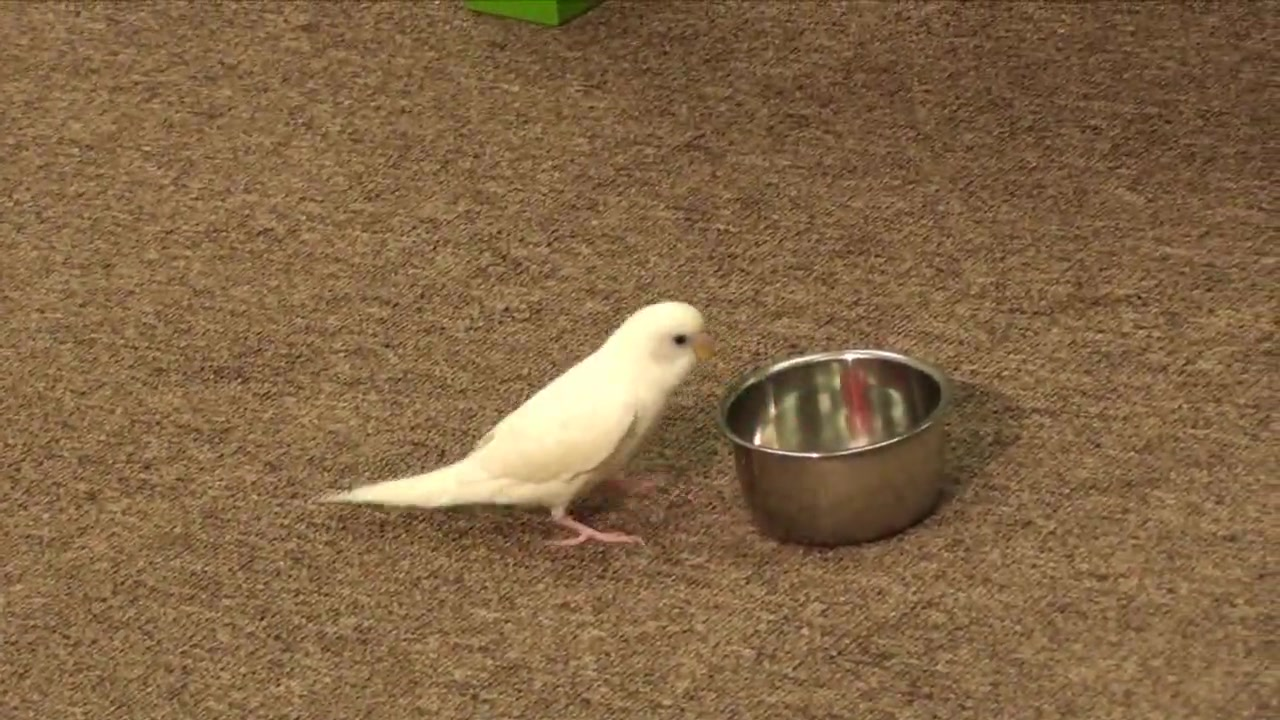bird: (322, 304, 715, 547)
